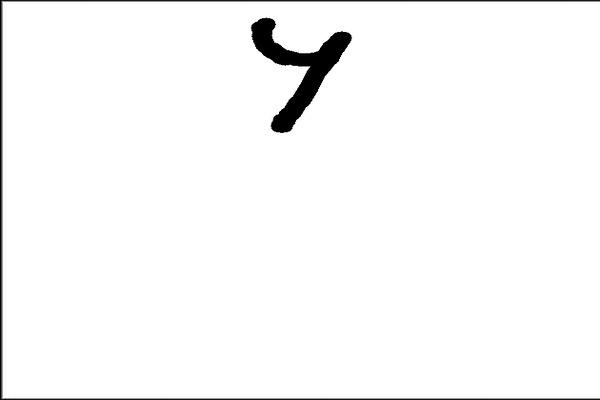Y: (237, 15, 372, 145)
